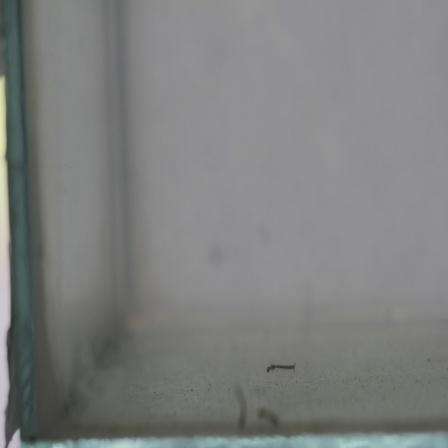Jentik-Nyamuk: (260, 359, 302, 376)
